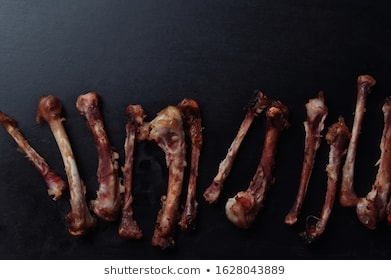kitchen_waste: (31, 88, 101, 238), (223, 97, 294, 231), (202, 77, 273, 208), (145, 97, 203, 253), (280, 83, 331, 229), (75, 89, 128, 226), (1, 107, 70, 207), (299, 112, 350, 243), (113, 102, 152, 242), (354, 95, 391, 233), (338, 64, 372, 211)
